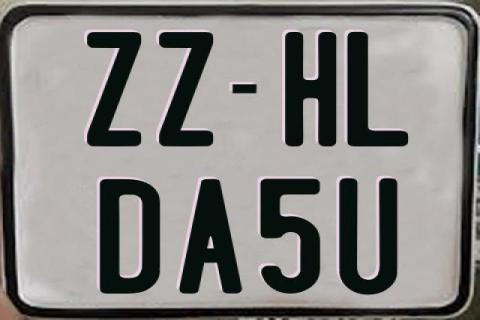0: (257, 177, 320, 293)
A: (177, 178, 246, 296)
D: (99, 177, 159, 292)
H: (282, 31, 336, 147)
L: (346, 31, 410, 151)
U: (339, 178, 398, 298)
Z: (158, 32, 218, 149), (87, 31, 144, 149)
